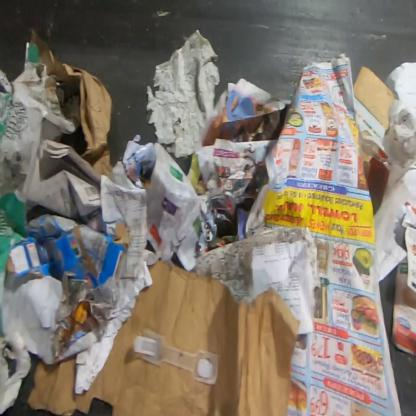cardboard: (28, 260, 300, 416), (5, 214, 133, 369), (36, 34, 112, 177), (352, 66, 396, 148), (363, 158, 390, 217)
